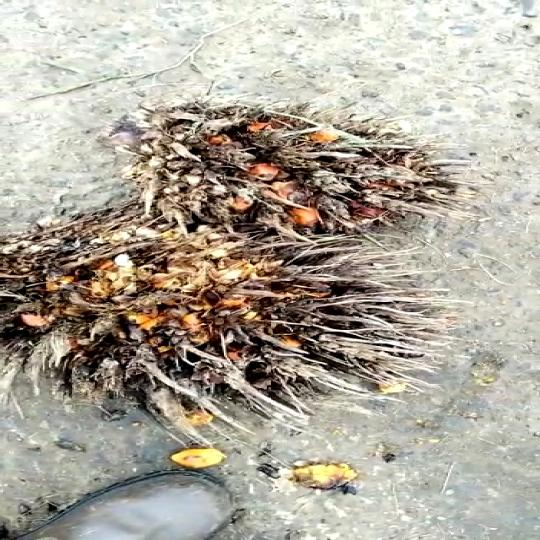terlalu masak: (0, 216, 411, 432), (117, 105, 455, 242)
